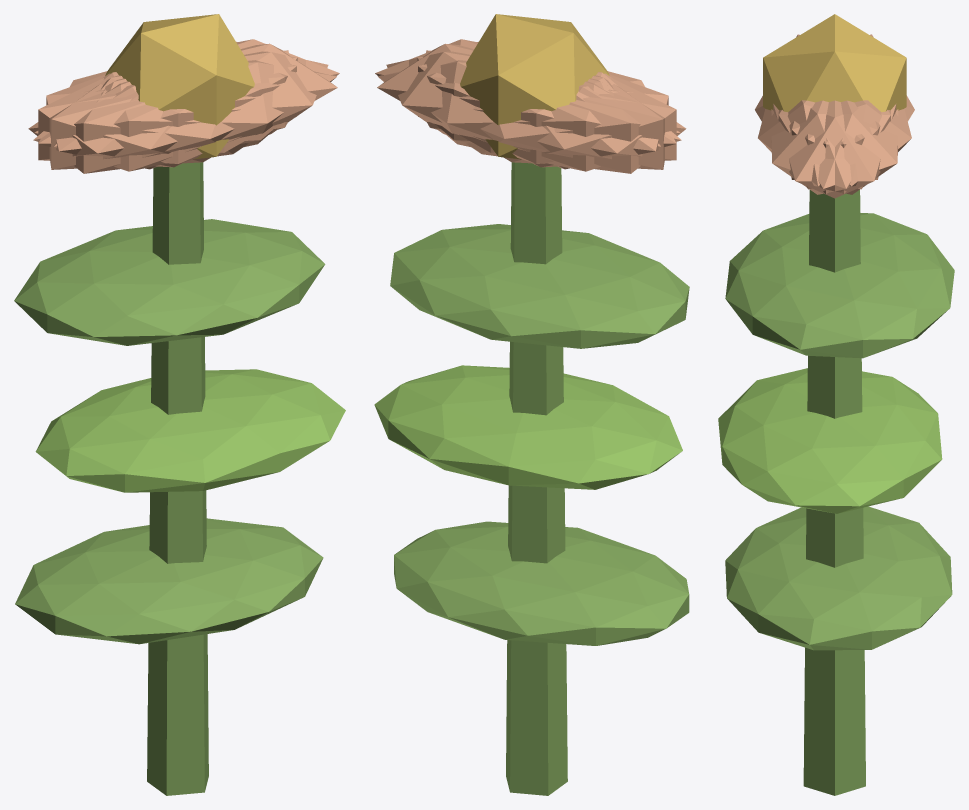
The model's file is manilkara-zapota.glb.
3 renders of one model, left to right at view 1: azimuth 30°, elevation 25°; view 2: azimuth 150°, elevation 25°; view 3: azimuth 270°, elevation 25°, orthographic.
Parts seen in each view (by area): view 1: leaf2, leaf1, leaf0, stem, center, petal1, petal6, petal2, petal5, petal7, petal0, petal4 (+2 smaller); view 2: leaf2, leaf0, leaf1, stem, center, petal8, petal3, petal7, petal4, petal2, petal0, petal5 (+2 smaller); view 3: leaf2, leaf1, leaf0, stem, center, petal0, petal4, petal5, petal1, petal8.
Part boxes in pixels (box(x1,y1,x2,y2)): leaf2: box(14, 219, 325, 345); leaf1: box(35, 369, 345, 492); leaf0: box(15, 518, 323, 644); stem: box(147, 162, 208, 795); center: box(105, 14, 254, 159); petal1: box(33, 60, 336, 171); petal6: box(28, 73, 248, 173); petal2: box(49, 50, 288, 169); petal5: box(54, 51, 328, 163); petal7: box(38, 57, 297, 167); petal0: box(105, 43, 337, 153); petal4: box(34, 39, 339, 143); leaf2: box(390, 224, 689, 348); leaf0: box(394, 521, 689, 645); leaf1: box(374, 365, 682, 489); stem: box(506, 162, 567, 795); center: box(460, 14, 609, 159); petal8: box(378, 60, 681, 171); petal3: box(466, 73, 686, 173); petal7: box(426, 50, 664, 169); petal4: box(386, 51, 660, 163); petal2: box(417, 57, 676, 167); petal0: box(377, 43, 609, 153); petal5: box(375, 39, 679, 143); leaf2: box(725, 213, 954, 358); leaf1: box(718, 368, 942, 513); leaf0: box(725, 506, 952, 650); stem: box(803, 190, 865, 795); center: box(763, 14, 906, 112); petal0: box(773, 100, 896, 198); petal4: box(778, 100, 898, 194); petal5: box(771, 100, 890, 194); petal1: box(758, 100, 880, 186); petal8: box(789, 100, 911, 186).
Size of the model in its own units: 0.147 by 0.3526 by 0.1009.
